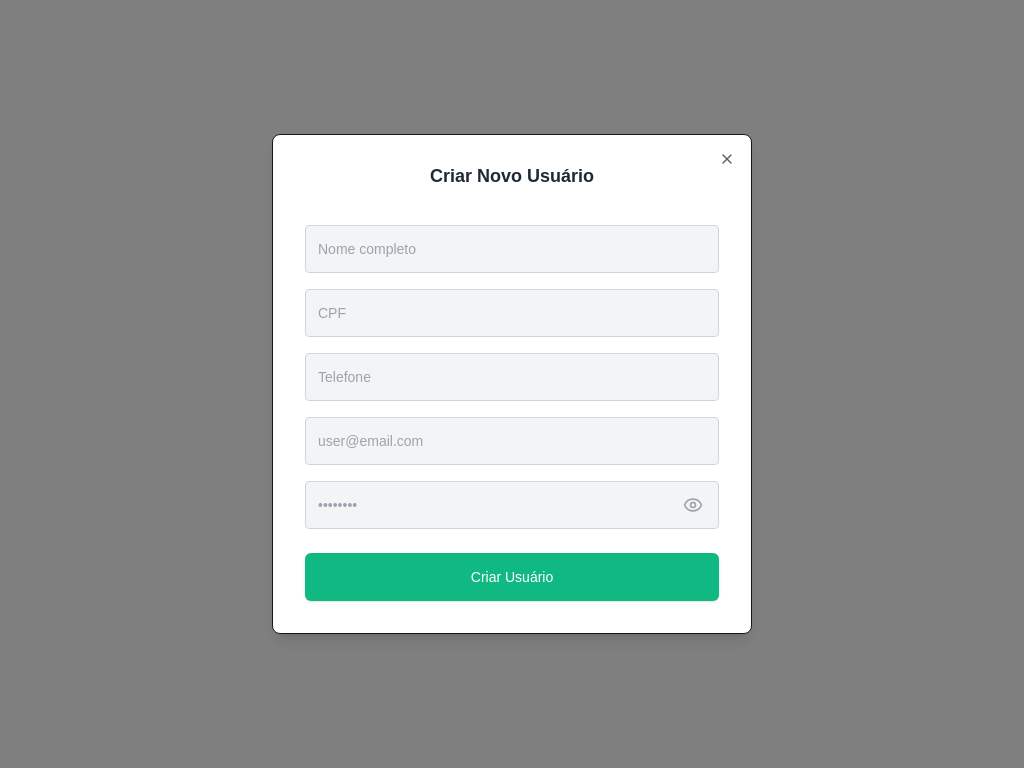
it: CreateUserModal › handles empty form submission
The width and height of the screenshot is (1024, 768).
Click the button "Criar Usuário": click(512, 577) [305,553,719,601]
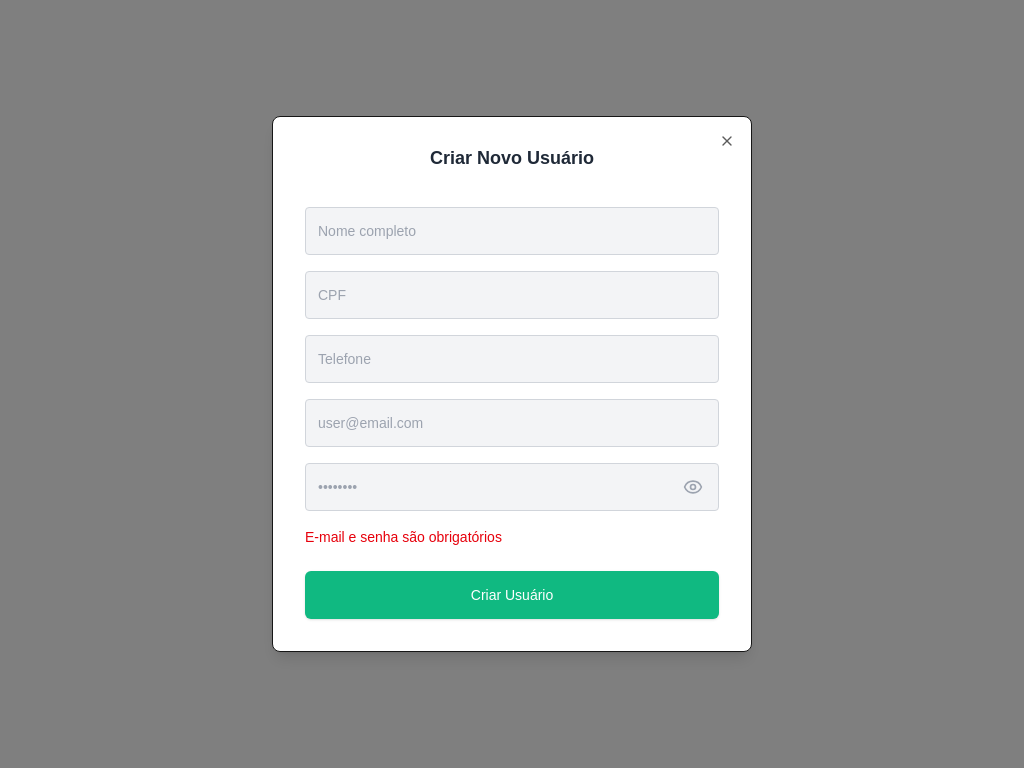
Check: the message reads "E-mail e senha são obrigatórios", box [305,529,502,545]
